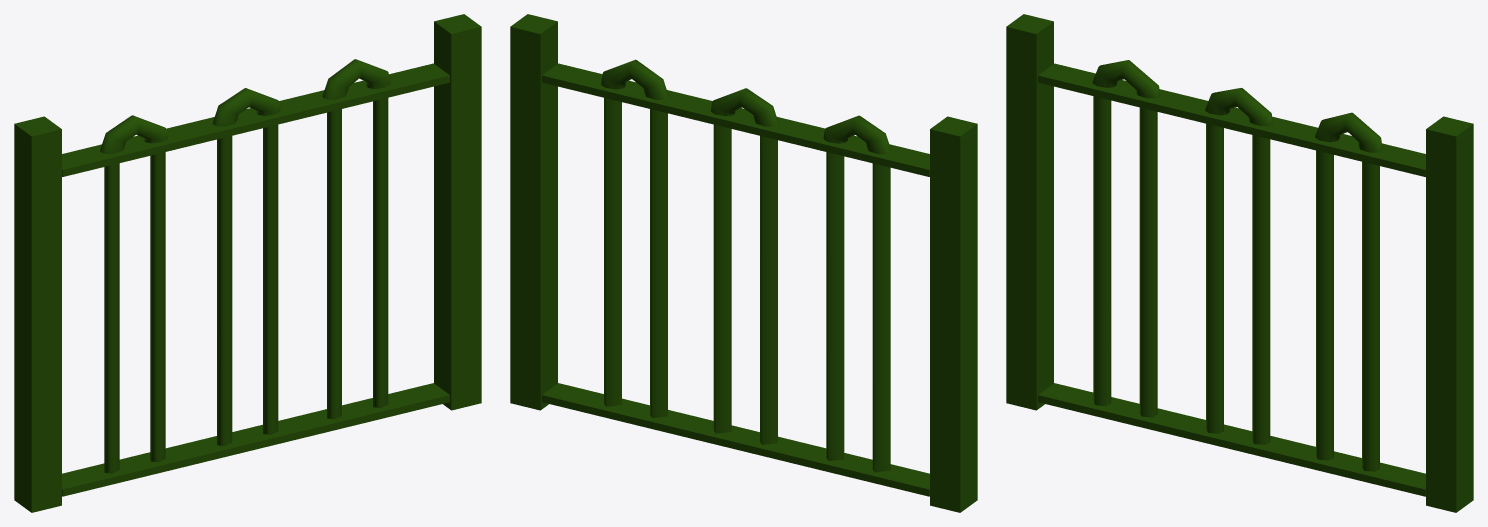
Rendered from Green fence.fbx.
The picture shows the model from 3 angles, left to right: view 1: azimuth 30°, elevation 25°; view 2: azimuth 150°, elevation 25°; view 3: azimuth 330°, elevation 25°; orthographic projection.
Visible parts, largest first — view 1: pCube7, pCube9, pCube8, pCube12, pCylinder3, pCylinder4, pCylinder6, pCylinder5, pCylinder8, pCylinder7, pTorus5, pTorus3 (+1 smaller); view 2: pCube7, pCube9, pCube8, pCube12, pCylinder3, pCylinder6, pCylinder4, pCylinder8, pCylinder7, pCylinder5, pTorus5, pTorus3 (+1 smaller); view 3: pCube9, pCube7, pCube8, pCube12, pCylinder4, pCylinder6, pCylinder3, pCylinder8, pCylinder5, pCylinder7, pTorus5, pTorus3 (+1 smaller).
Part boxes in pixels (box(x1,y1,x2,y2)): pCube7: box(14, 116, 61, 512); pCube9: box(434, 14, 481, 410); pCube8: box(62, 383, 449, 496); pCube12: box(62, 63, 449, 176); pCylinder3: box(104, 152, 119, 473); pCylinder4: box(150, 141, 165, 462); pCylinder6: box(263, 114, 278, 434); pCylinder5: box(217, 125, 232, 445); pCylinder8: box(373, 87, 388, 407); pCylinder7: box(327, 98, 341, 419); pTorus5: box(322, 59, 390, 99); pTorus3: box(100, 115, 167, 153); pCube7: box(930, 116, 977, 512); pCube9: box(510, 14, 557, 410); pCube8: box(542, 383, 929, 496); pCube12: box(542, 63, 929, 176); pCylinder3: box(872, 163, 890, 472); pCylinder6: box(713, 124, 731, 433); pCylinder4: box(826, 152, 844, 460); pCylinder8: box(604, 98, 621, 406); pCylinder7: box(650, 109, 667, 417); pCylinder5: box(760, 136, 777, 444); pTorus5: box(601, 59, 668, 99); pTorus3: box(823, 115, 891, 154); pCube9: box(1426, 116, 1473, 512); pCube7: box(1006, 14, 1053, 410); pCube8: box(1038, 383, 1425, 496); pCube12: box(1038, 63, 1425, 176); pCylinder4: box(1139, 96, 1157, 417); pCylinder6: box(1252, 123, 1270, 444); pCylinder3: box(1093, 84, 1111, 406); pCylinder8: box(1362, 150, 1379, 471); pCylinder5: box(1206, 111, 1223, 433); pCylinder7: box(1316, 138, 1333, 460); pTorus5: box(1315, 112, 1382, 152); pTorus3: box(1092, 60, 1160, 98).
Bounding box in the file's own units: 11.26 × 9 × 0.7572.
